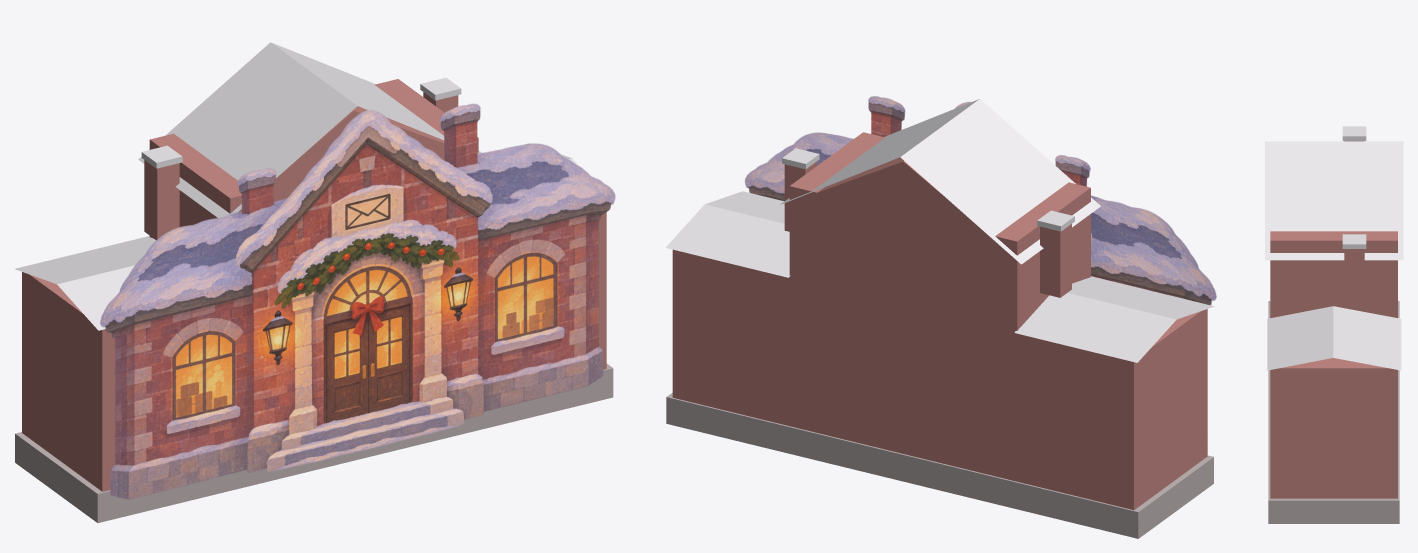
File: post-office.glb
The picture shows the model from 3 angles, left to right: view 1: azimuth 30°, elevation 25°; view 2: azimuth 150°, elevation 25°; view 3: azimuth 270°, elevation 25°; orthographic projection. The views are drawn at different scales.
Visible parts, largest first — view 1: Painted front facade, Snow gabled roof, Brick walls, Stone foundation, Main gable walls, Snow wing roof -1, Chimney -1, Gable solid; view 2: Main gable walls, Brick walls, Stone foundation, Snow gabled roof, Painted front facade, Snow wing roof -1, Gable solid, Snow wing roof 1, Chimney -1; view 3: Brick walls, Snow gabled roof, Main gable walls, Snow wing roof 1, Stone foundation, Chimney 1, Chimney snow -1, Chimney snow 1.
Boxes of the visible parts, bbox=[...] form: Painted front facade: bbox=[100, 103, 615, 499]; Snow gabled roof: bbox=[138, 42, 481, 217]; Brick walls: bbox=[22, 212, 606, 491]; Stone foundation: bbox=[15, 363, 613, 522]; Main gable walls: bbox=[149, 79, 478, 238]; Snow wing roof -1: bbox=[15, 236, 155, 330]; Chimney -1: bbox=[144, 160, 179, 240]; Gable solid: bbox=[238, 106, 444, 211]; Main gable walls: bbox=[789, 132, 1090, 481]; Brick walls: bbox=[672, 249, 1207, 509]; Stone foundation: bbox=[666, 393, 1213, 538]; Snow gabled roof: bbox=[780, 99, 1100, 264]; Painted front facade: bbox=[744, 96, 1216, 305]; Snow wing roof -1: bbox=[1014, 276, 1214, 362]; Gable solid: bbox=[790, 157, 1011, 256]; Snow wing roof 1: bbox=[665, 191, 790, 277]; Chimney -1: bbox=[1040, 224, 1071, 297]; Brick walls: bbox=[1270, 358, 1397, 498]; Snow gabled roof: bbox=[1265, 141, 1403, 260]; Main gable walls: bbox=[1270, 231, 1397, 318]; Snow wing roof 1: bbox=[1267, 306, 1401, 370]; Stone foundation: bbox=[1268, 301, 1399, 523]; Chimney 1: bbox=[1344, 249, 1364, 306]; Chimney snow -1: bbox=[1342, 126, 1366, 140]; Chimney snow 1: bbox=[1342, 234, 1366, 248].
Bounding box in the file's own units: 12 × 8 × 3.26.
Materials: 4 (1 with a texture image).
